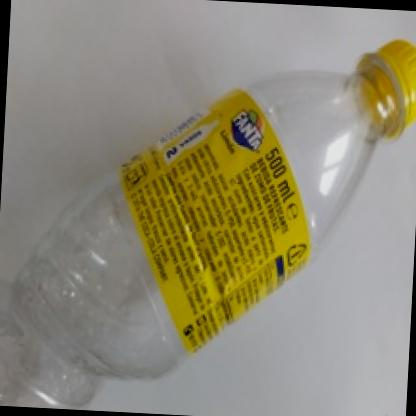plastic_bottles: (13, 18, 416, 416)
